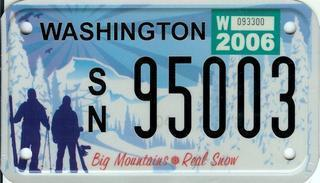placa de veiculo: (9, 4, 305, 181)
